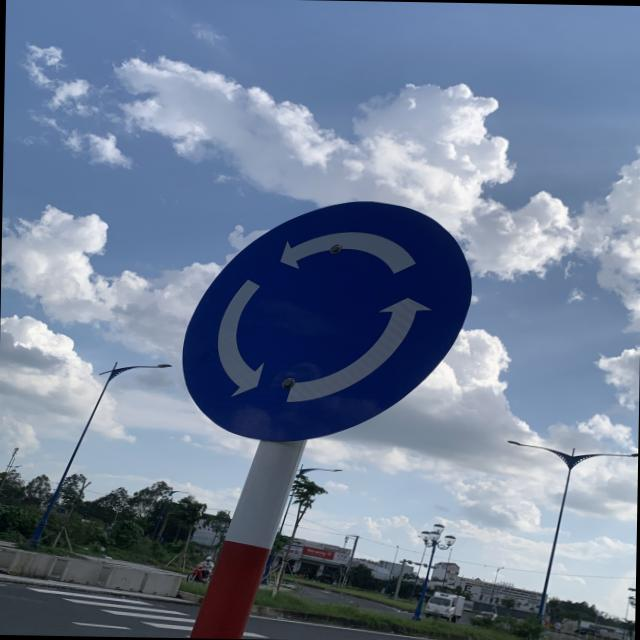Xe_Bus: (180, 197, 473, 445)
